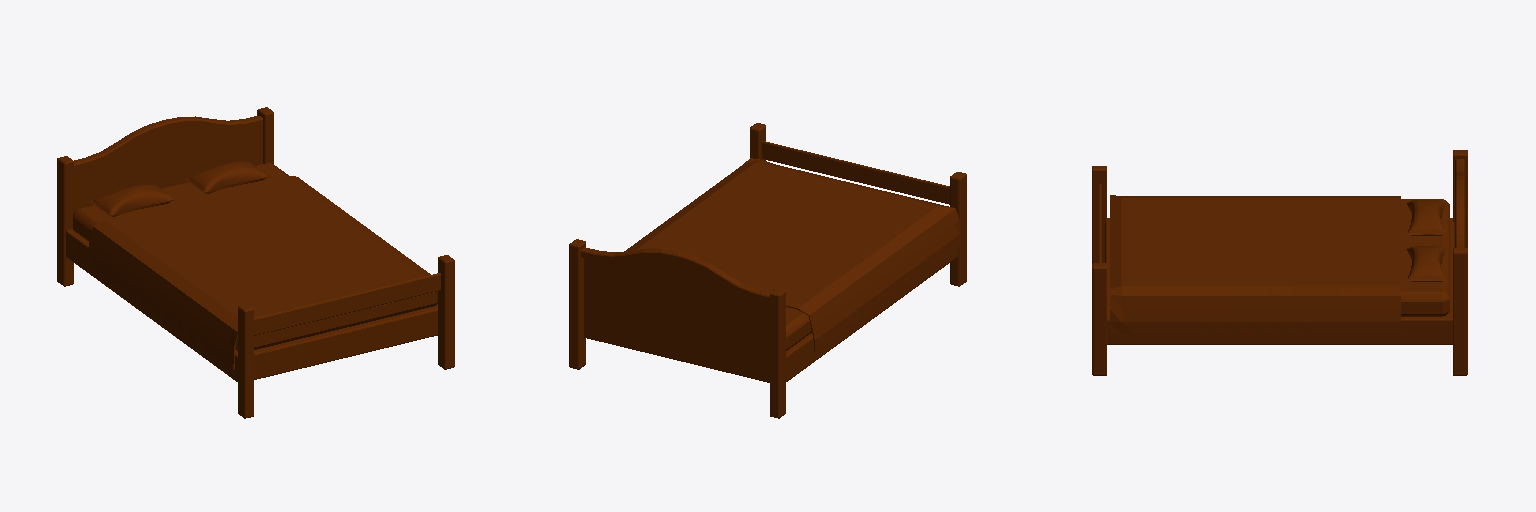
The model's file is Cama.obj.
3 renders of one model, left to right at view 1: azimuth 30°, elevation 25°; view 2: azimuth 150°, elevation 25°; view 3: azimuth 270°, elevation 25°, orthographic.
Parts seen in each view (by area): view 1: bed_Material.001; view 2: bed_Material.001; view 3: bed_Material.001.
Boxes of the visible parts, x1=… form: bed_Material.001: x1=57, y1=107, x2=454, y2=418; bed_Material.001: x1=569, y1=123, x2=966, y2=418; bed_Material.001: x1=1092, y1=150, x2=1467, y2=375.
Bounding box in the file's own units: 2.17 × 1.33 × 3.27.